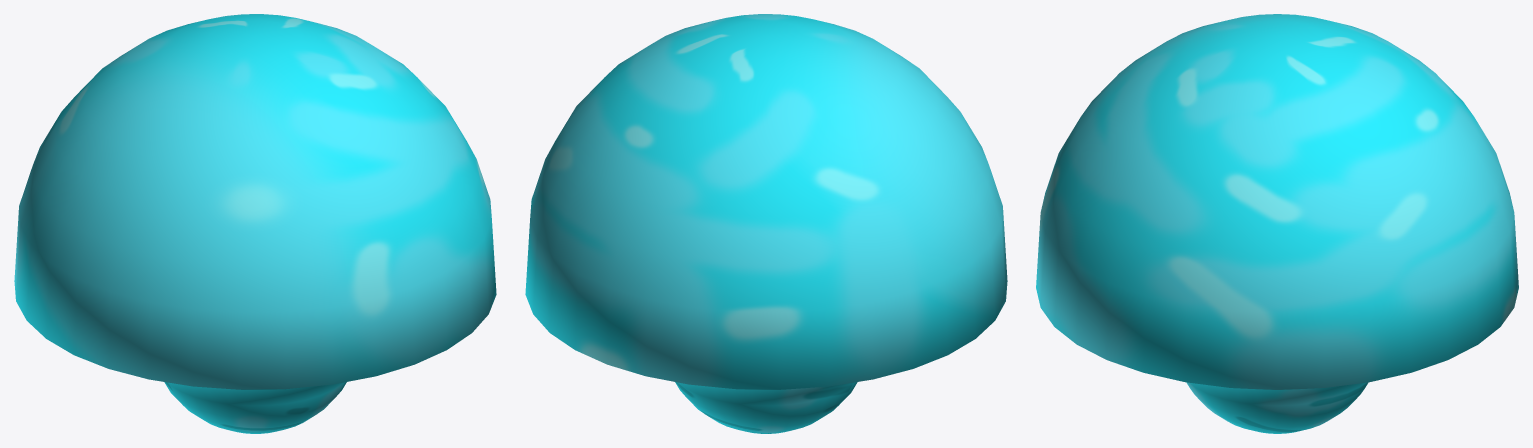
File: Mushroom.fbx
3 views of the same model, side by side, from view 1: azimuth 30°, elevation 25°; view 2: azimuth 150°, elevation 25°; view 3: azimuth 270°, elevation 25° (orthographic).
Parts seen in each view (by area): view 1: Sphere; view 2: Sphere; view 3: Sphere.
Part boxes in pixels (left/top/right/bottom): Sphere: left=14, top=14, right=496, bottom=433; Sphere: left=525, top=14, right=1007, bottom=433; Sphere: left=1036, top=14, right=1518, bottom=433.
Bounding box in the file's own units: 2 × 1.77 × 2.
Materials: 1 (1 with a texture image).
